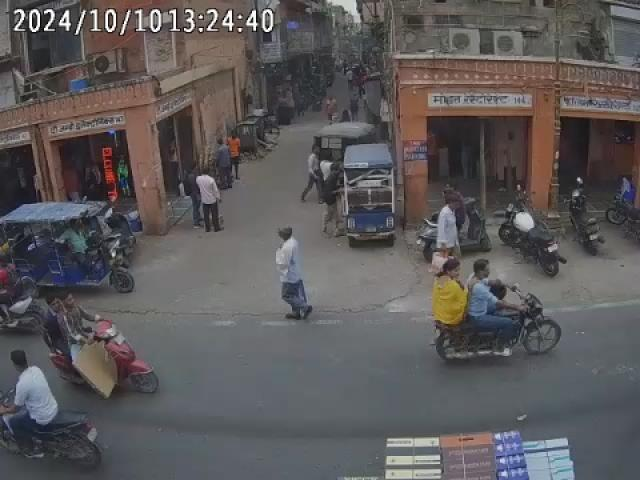auto: (0, 201, 122, 289), (342, 142, 400, 248)
motorbike: (506, 202, 564, 276), (609, 186, 640, 238)
motorbike-rider: (432, 262, 561, 361), (0, 349, 101, 473)
no_helmet: (470, 257, 493, 282), (442, 257, 462, 278), (10, 350, 30, 369), (60, 294, 78, 313), (44, 292, 58, 312)
person: (273, 225, 310, 322), (422, 197, 465, 264), (191, 167, 225, 232), (212, 137, 241, 188)
scooty: (564, 177, 606, 256)
scooty-rider: (44, 293, 160, 397)
